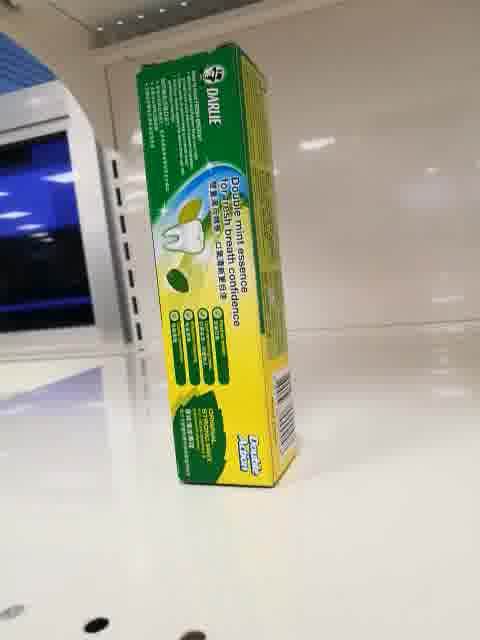toothpaste: (134, 40, 300, 488)
